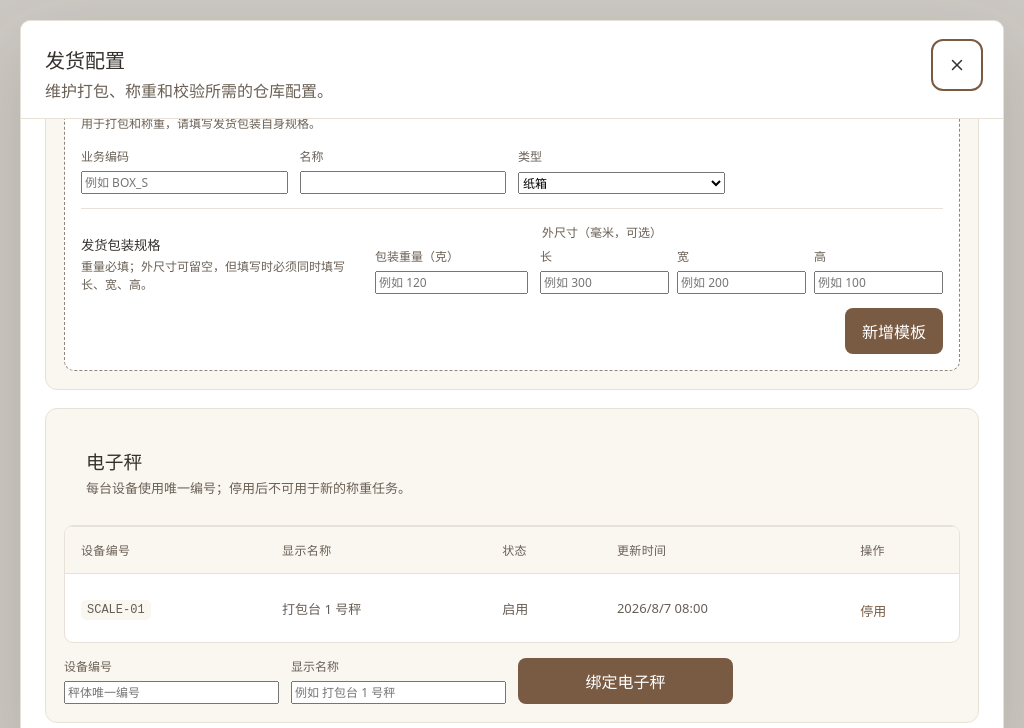
it: ShippingConfigurationDialog › binds a scale and rejects incomplete packaging dimensions locally
The width and height of the screenshot is (1024, 728).
(page scrolled)
In the field labelled "设备编号": [172, 692] box [64,681,279,704], type "SCALE-02"
In the field labelled "显示名称": [398, 692] box [291,681,506,704], type "打包台 2 号秤"
Click the button "绑定电子秤": [626, 681] box [518,658,733,704]
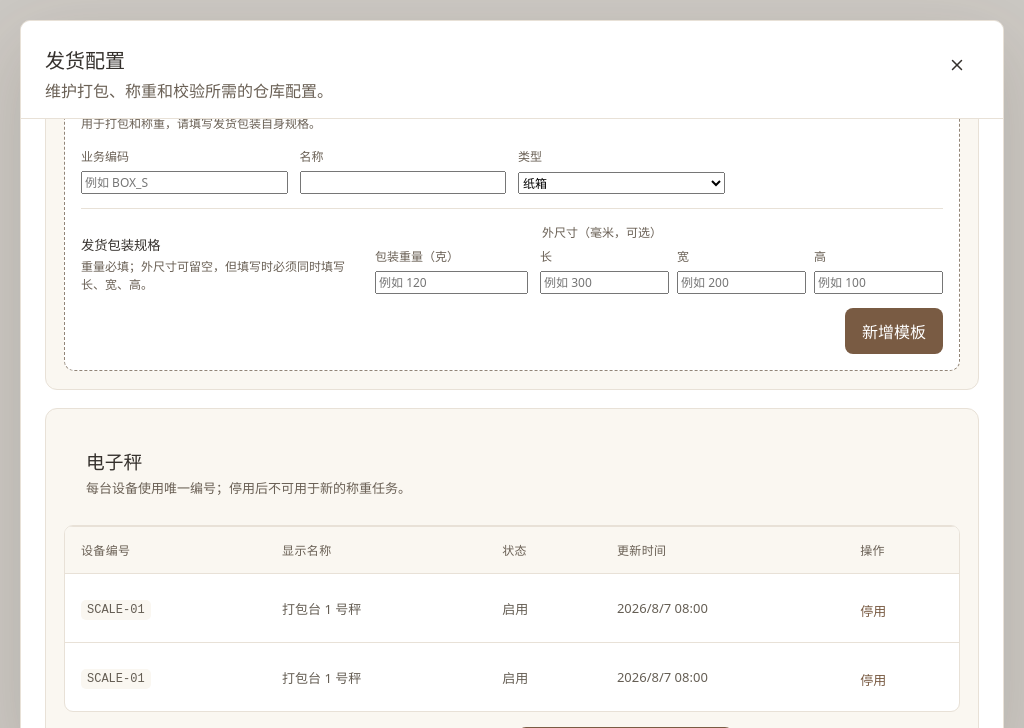
In the field labelled "业务编码": [184, 182] box [81,171,288,194], type "BOX_M"
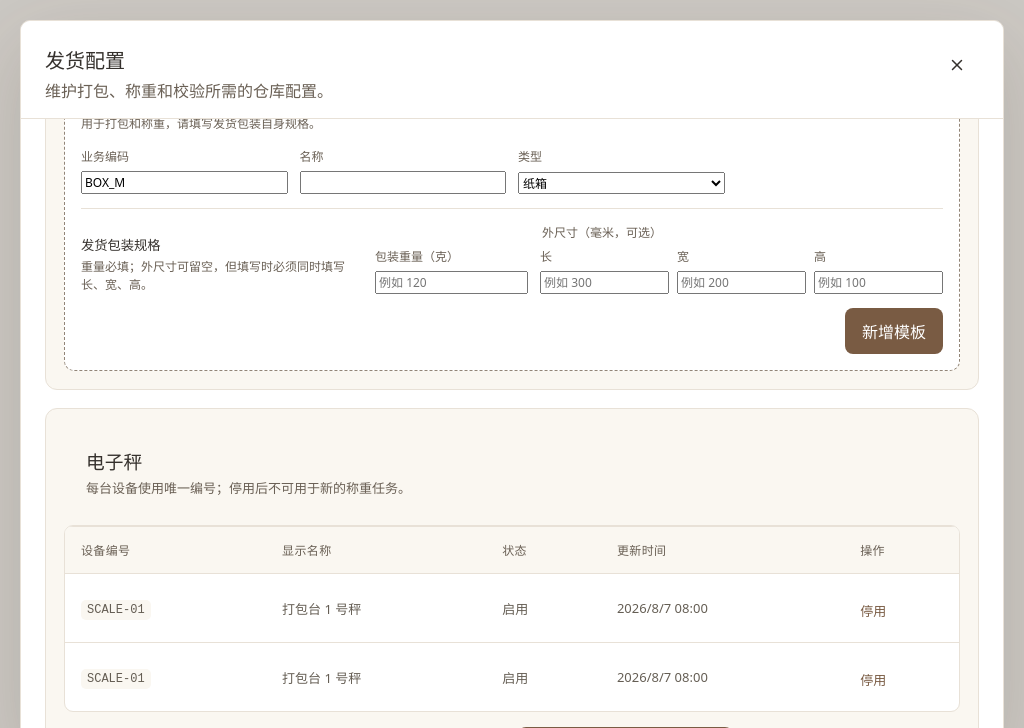
In the field labelled "名称": [403, 182] box [300,171,506,194], type "中号纸箱"
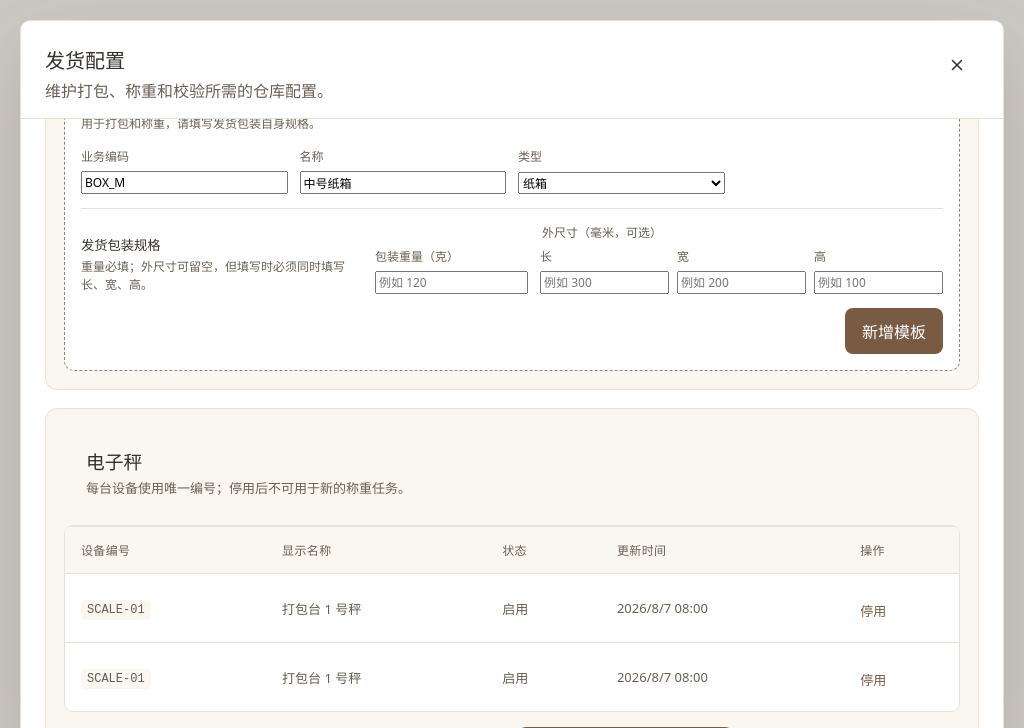
In the field labelled "包装重量（克）": [452, 282] box [375,271,528,294], type "70"
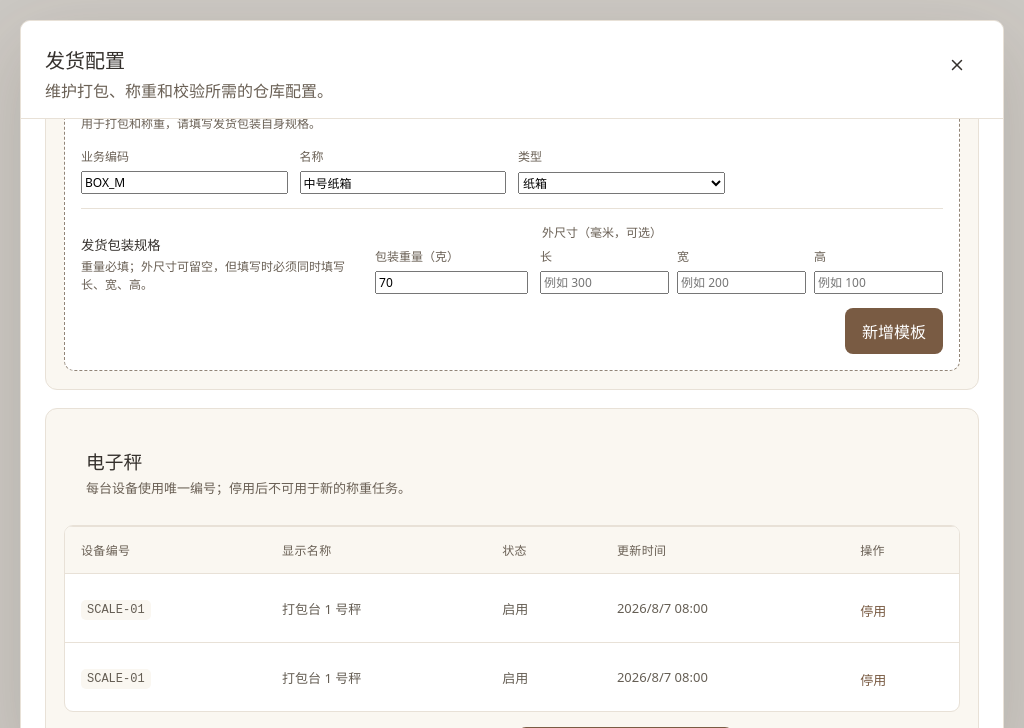
In the field labelled "长": [605, 282] box [540,271,669,294], type "300"
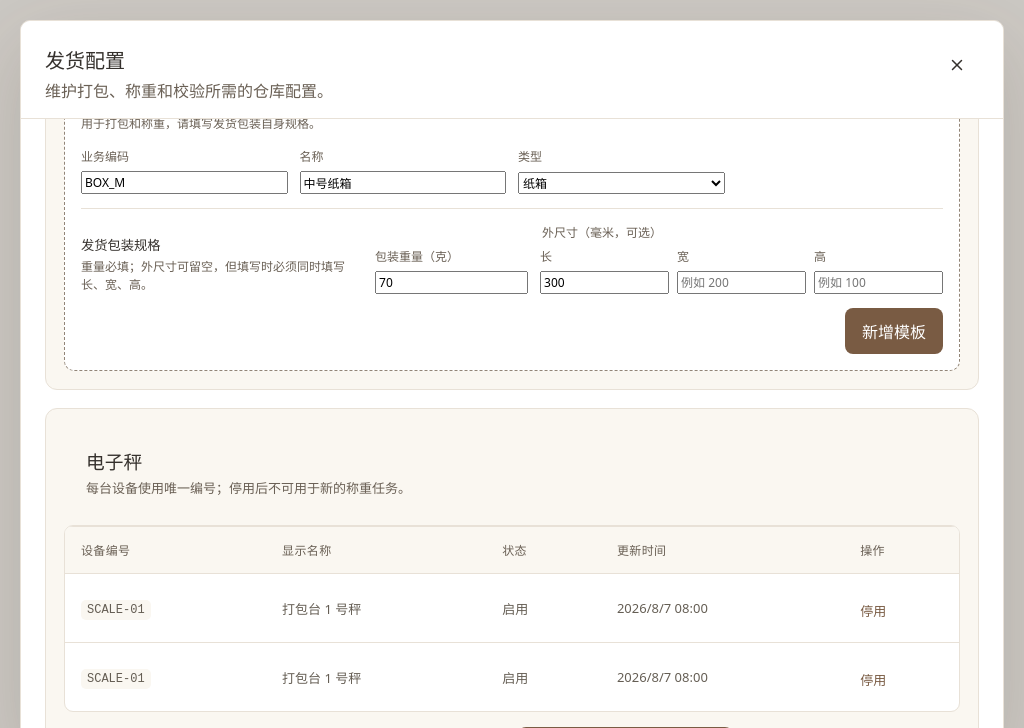
Click the button "新增模板": [894, 331] box [845,308,943,354]
(page scrolled)
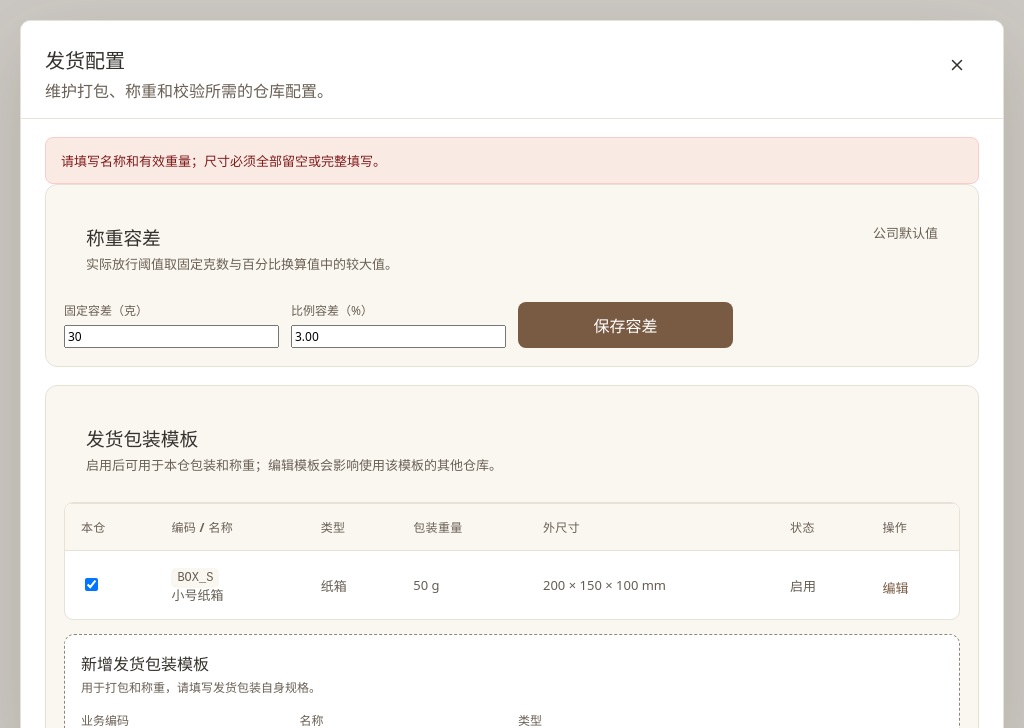
Now the text "请填写名称和有效重量；尺寸必须全部留空或完整填写。" is shown, box [45,137,979,184]
